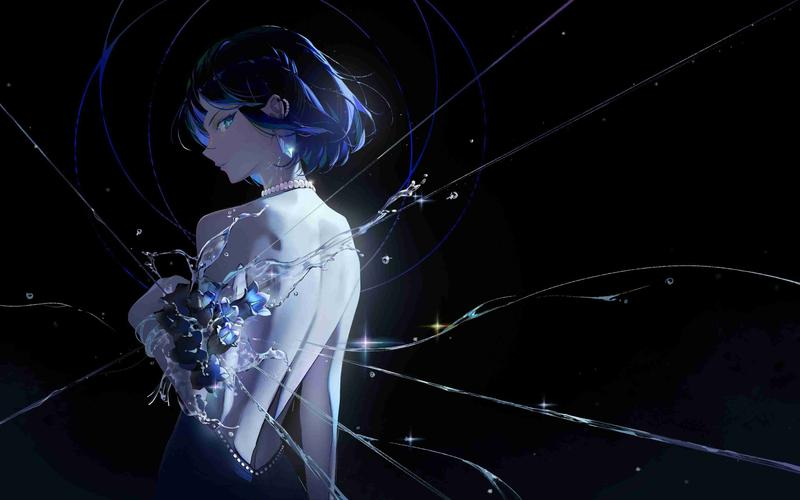夜兰: (120, 28, 367, 499)
